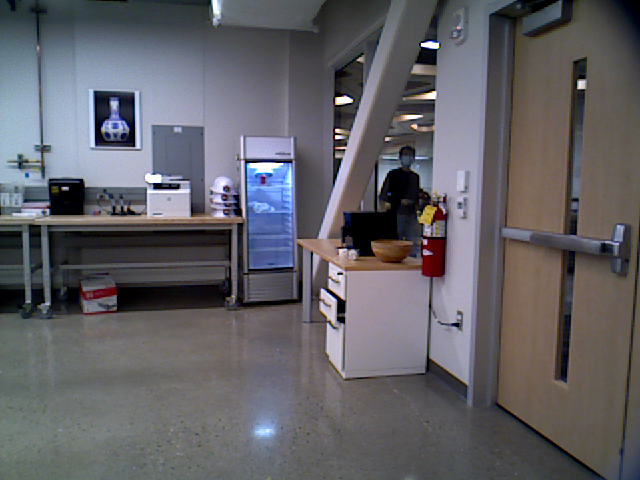painting2: (89, 90, 141, 149)
